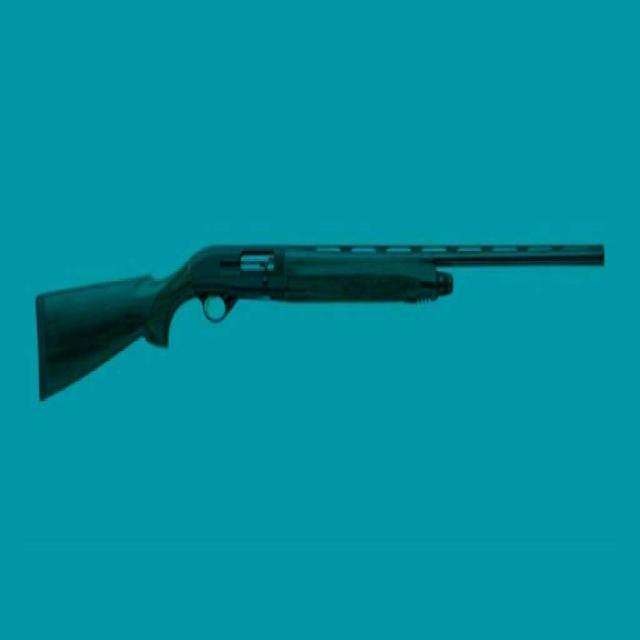weapon: (34, 242, 606, 404)
